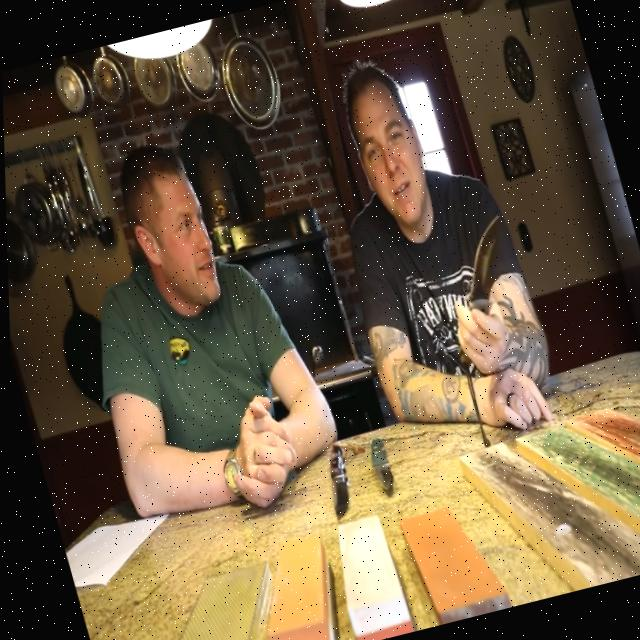knife: (443, 212, 521, 316), (313, 440, 357, 518), (361, 433, 393, 492)
